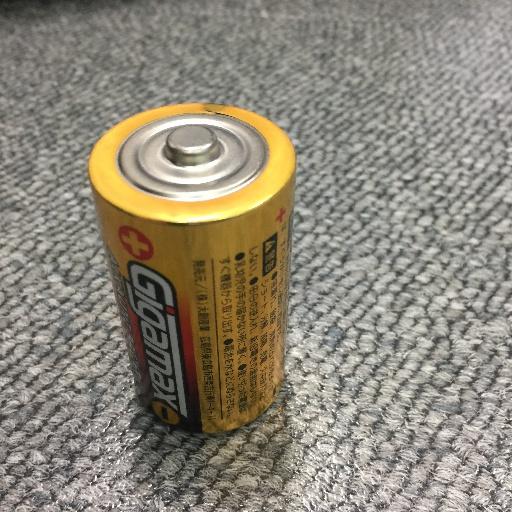Battery_0: (75, 88, 318, 444)
